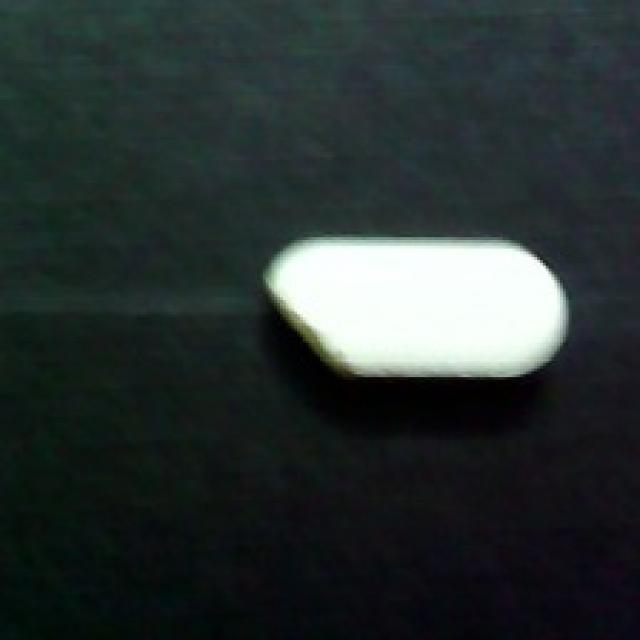defected: (263, 229, 571, 383)
